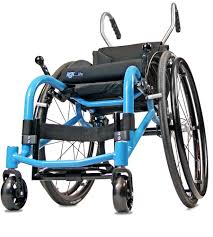wheelchair: (1, 3, 206, 212)
